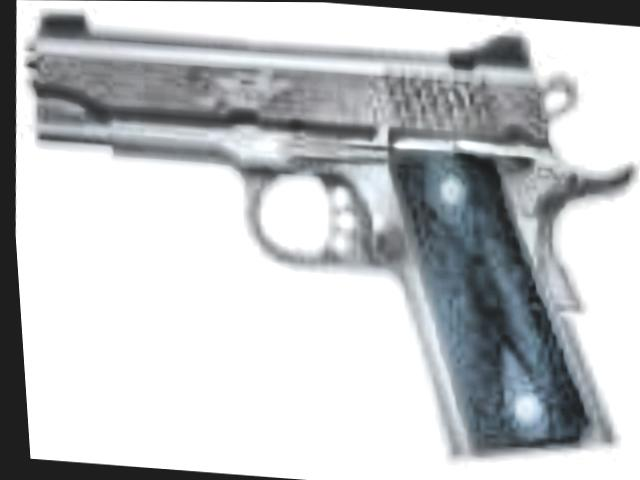pistol: (0, 0, 640, 467)
